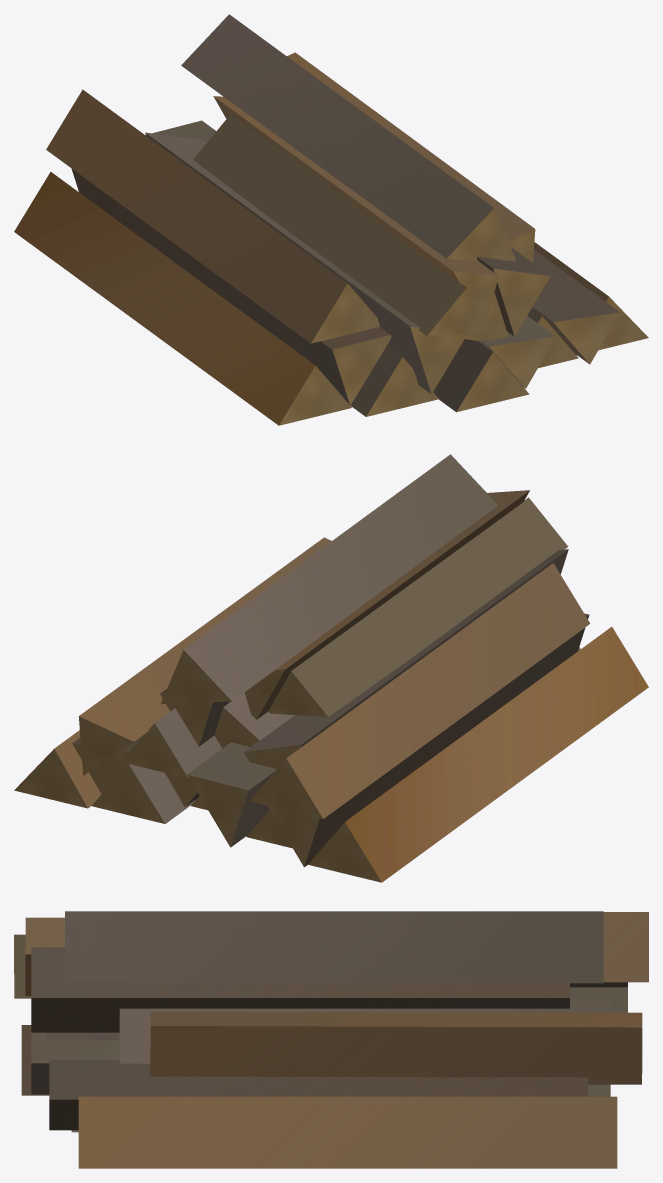
File: Lumber.fbx
The picture shows the model from 3 angles, top to bottom: view 1: azimuth 30°, elevation 25°; view 2: azimuth 150°, elevation 25°; view 3: azimuth 270°, elevation 25°; orthographic projection.
Parts seen in each view (by area): view 1: polySurface9884; view 2: polySurface9884; view 3: polySurface9884.
Boxes of the visible parts, left/top/right/bottom form: polySurface9884: left=14, top=14, right=648, bottom=425; polySurface9884: left=14, top=454, right=648, bottom=882; polySurface9884: left=14, top=911, right=648, bottom=1168.
Size of the model in its own units: 159 by 72.38 by 234.
